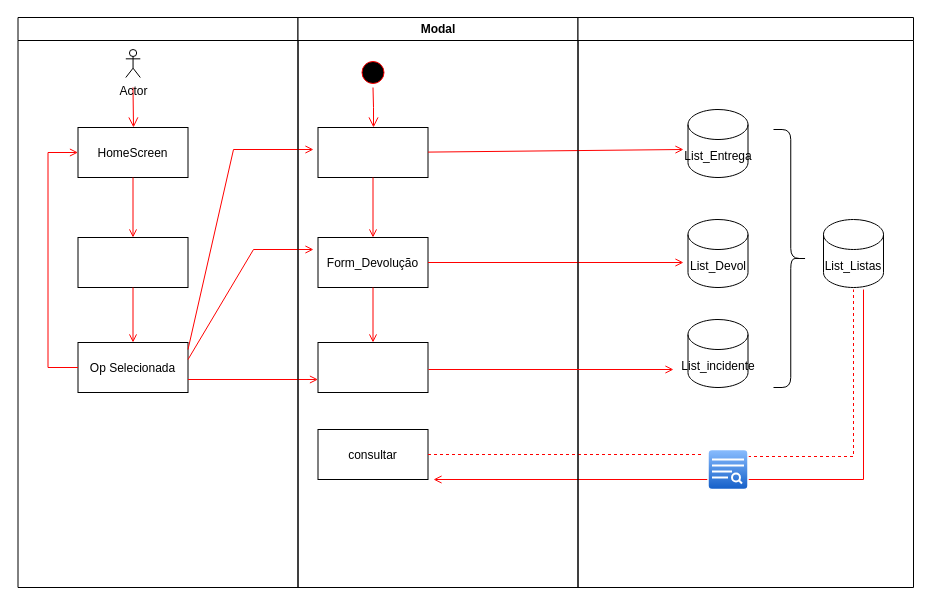
Image size: 931x605. Some labels were removed from this diagram. The shapes that lost their labels are listed below. From the top down, each one's box as (x1, y1, x2, y2) in pixels, then its label:
(317, 126, 428, 178): Form_Entrega
(77, 236, 188, 288): Escolher a opção
(17, 16, 298, 588): Execução
(577, 16, 914, 588): Databases
(317, 342, 428, 392): Form_incidente
